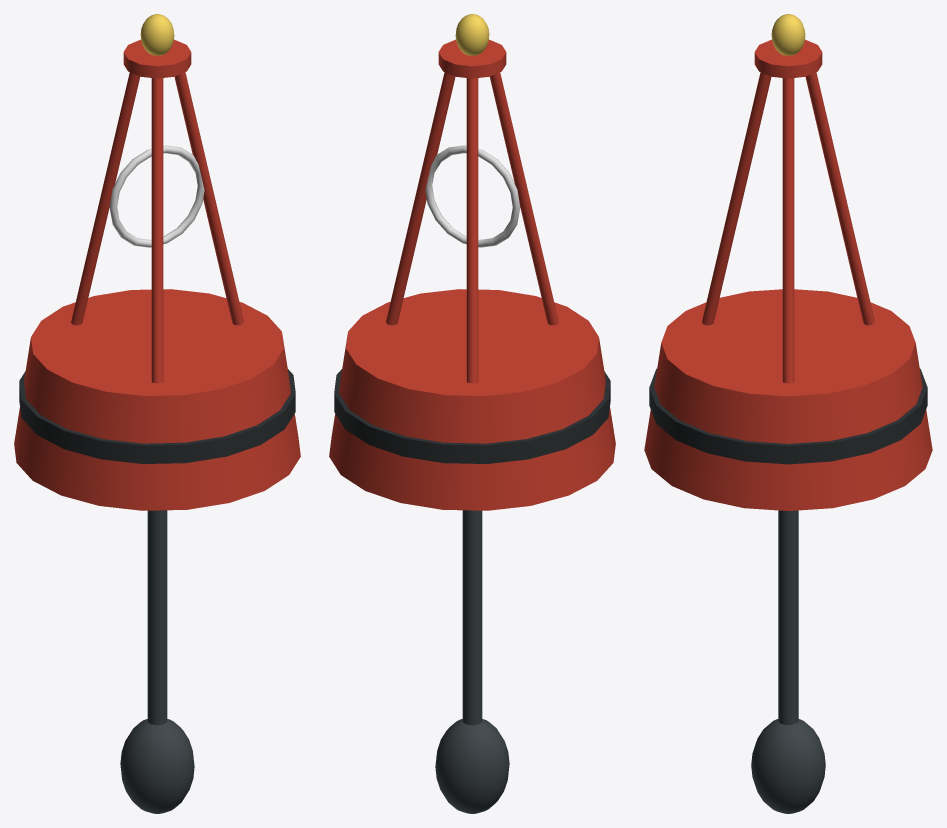
Rendered from buoy.glb.
The picture shows the model from 3 angles, left to right: view 1: azimuth 30°, elevation 25°; view 2: azimuth 150°, elevation 25°; view 3: azimuth 270°, elevation 25°; orthographic projection.
Visible parts, largest first — view 1: BuoyFloatAssembly, BuoyFrameAssembly, BuoyFender, BuoyWeight, BuoyStem, BuoyRing, BuoyLamp; view 2: BuoyFloatAssembly, BuoyFrameAssembly, BuoyFender, BuoyWeight, BuoyStem, BuoyRing, BuoyLamp; view 3: BuoyFloatAssembly, BuoyFrameAssembly, BuoyFender, BuoyWeight, BuoyStem, BuoyLamp.
Part boxes in pixels (x1=…): BuoyFloatAssembly: x1=14, y1=39, x2=300, y2=510; BuoyFrameAssembly: x1=71, y1=72, x2=243, y2=383; BuoyFender: x1=19, y1=369, x2=295, y2=463; BuoyWeight: x1=120, y1=719, x2=194, y2=813; BuoyStem: x1=147, y1=510, x2=167, y2=725; BuoyRing: x1=109, y1=145, x2=204, y2=247; BuoyLamp: x1=140, y1=14, x2=174, y2=55; BuoyFloatAssembly: x1=329, y1=39, x2=615, y2=510; BuoyFrameAssembly: x1=386, y1=72, x2=558, y2=383; BuoyFender: x1=334, y1=369, x2=610, y2=463; BuoyWeight: x1=435, y1=719, x2=509, y2=813; BuoyStem: x1=462, y1=510, x2=482, y2=725; BuoyRing: x1=425, y1=145, x2=520, y2=247; BuoyLamp: x1=455, y1=14, x2=489, y2=55; BuoyFloatAssembly: x1=644, y1=39, x2=932, y2=510; BuoyFrameAssembly: x1=702, y1=72, x2=874, y2=383; BuoyFender: x1=649, y1=368, x2=927, y2=464; BuoyWeight: x1=751, y1=719, x2=825, y2=813; BuoyStem: x1=778, y1=510, x2=798, y2=724; BuoyLamp: x1=771, y1=14, x2=805, y2=55.
Size of the model in its own units: 1.7 by 5.18 by 1.7.
